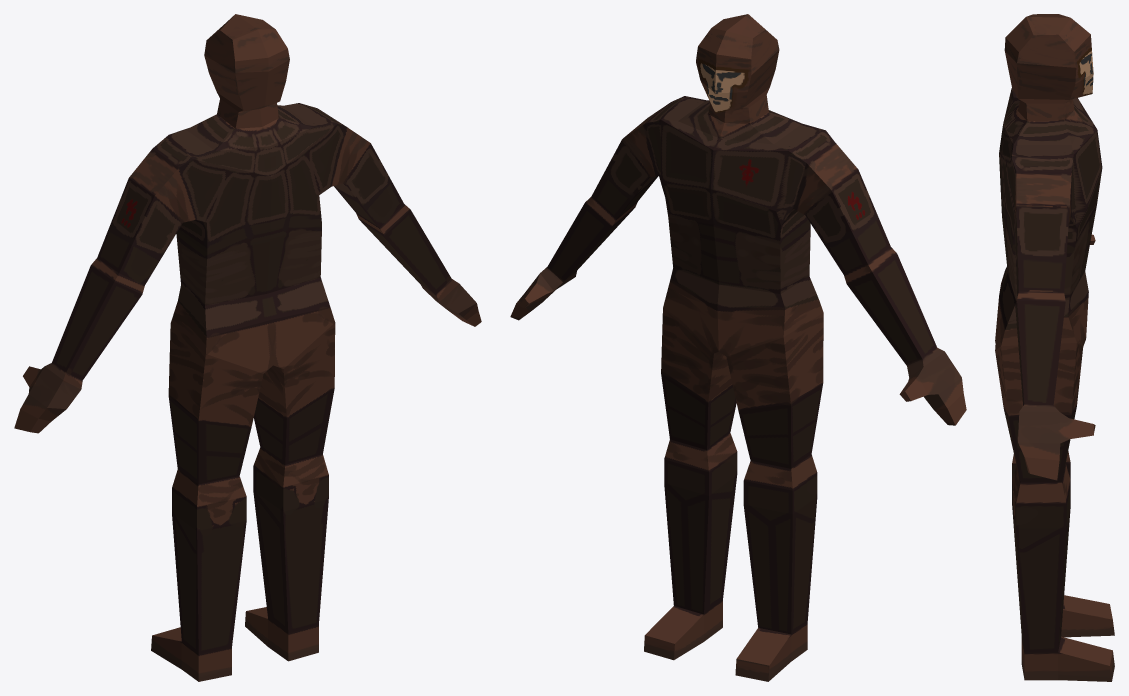
The model's file is Militia1.fbx.
3 renders of one model, left to right at view 1: azimuth 30°, elevation 25°; view 2: azimuth 150°, elevation 25°; view 3: azimuth 270°, elevation 25°, orthographic. The views are drawn at different scales.
Visible parts, largest first — view 1: Cube; view 2: Cube; view 3: Cube.
Boxes of the visible parts, <box> form: Cube: <box>14,14,481,681</box>; Cube: <box>510,14,966,681</box>; Cube: <box>995,14,1114,681</box>.
Size of the model in its own units: 5.52 by 1.26 by 7.36.
1 material, 1 textured.
